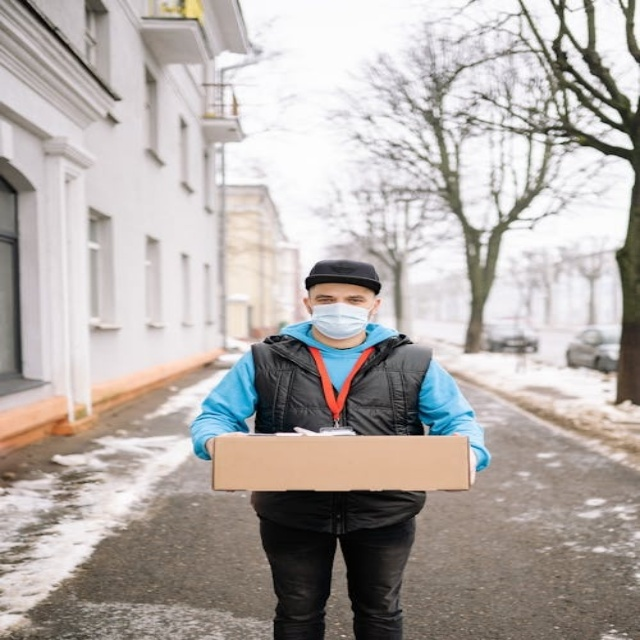Mascara: (309, 301, 371, 339)
Sin_gafas: (307, 294, 374, 303)
